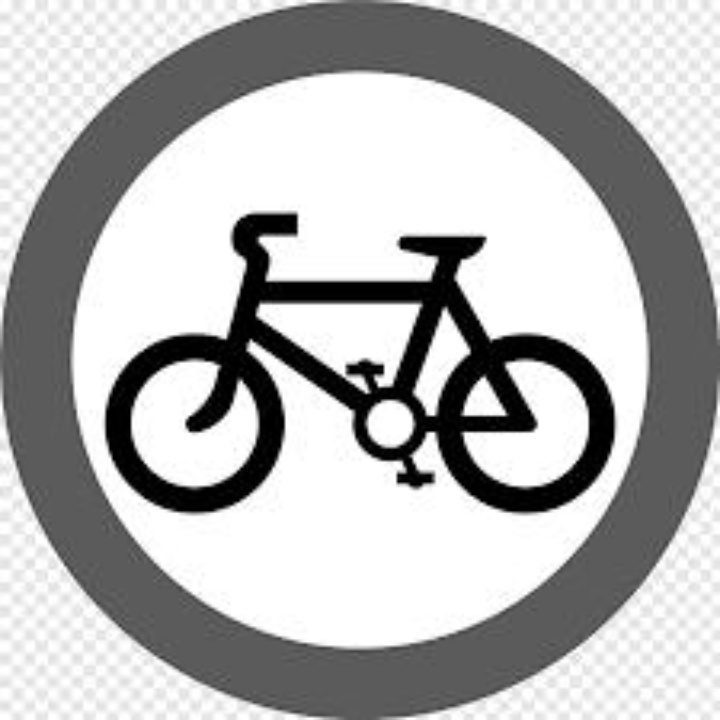bicycle: (86, 188, 622, 541)
